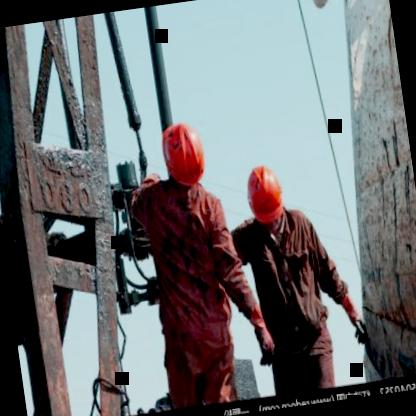helmet: (156, 114, 214, 194), (239, 156, 292, 238)
